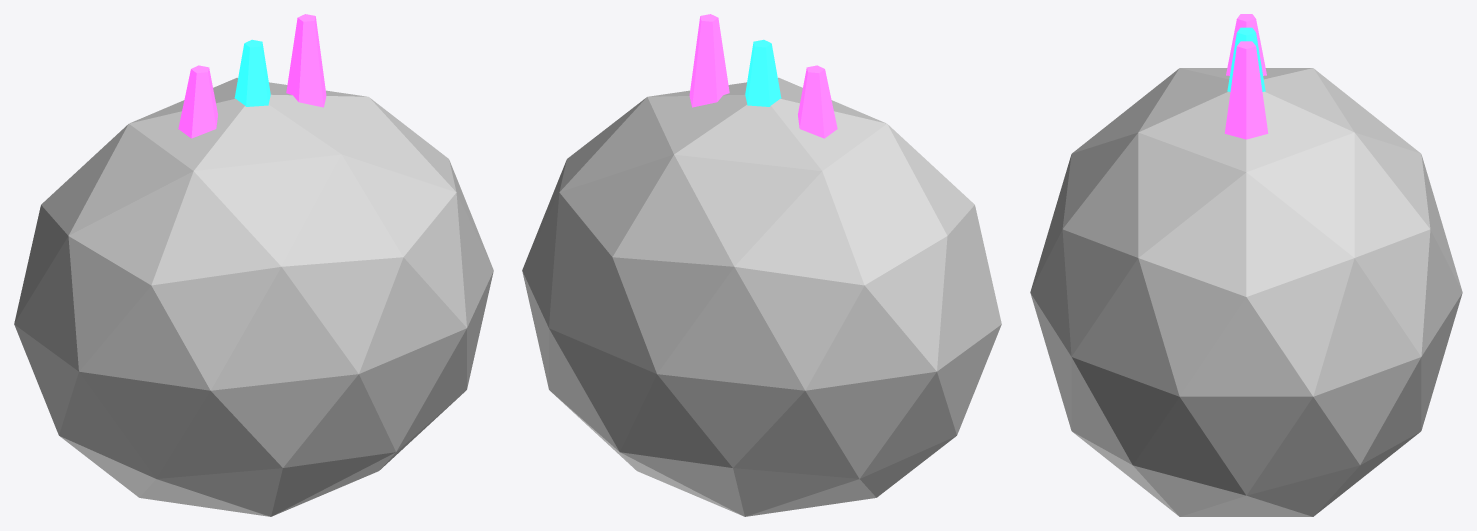
3 renders of one model, left to right at view 1: azimuth 30°, elevation 25°; view 2: azimuth 150°, elevation 25°; view 3: azimuth 270°, elevation 25°, orthographic. The views are drawn at different scales.
Parts seen in each view (by area): view 1: Neon_Boulder_Showcase; view 2: Neon_Boulder_Showcase; view 3: Neon_Boulder_Showcase.
Part boxes in pixels (x1,y1,x2,y2): Neon_Boulder_Showcase: (14,14,493,516); Neon_Boulder_Showcase: (522,14,1001,516); Neon_Boulder_Showcase: (1030,14,1462,516).
Bounding box in the file's own units: 1.71 × 1.85 × 1.5.
